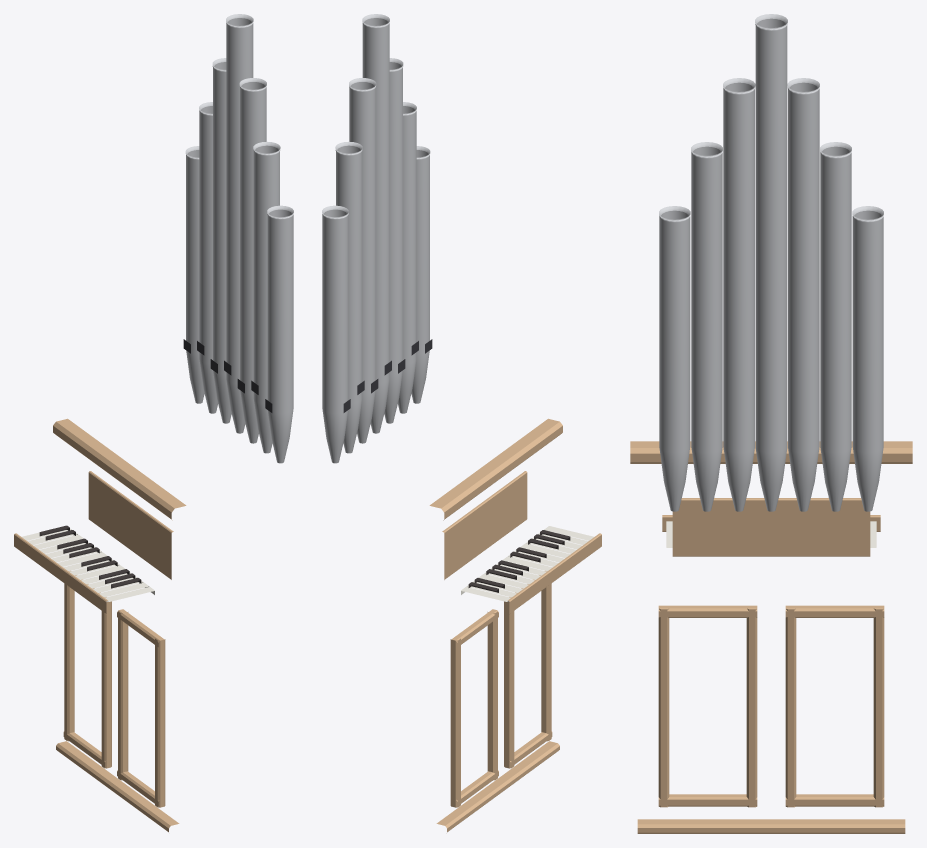
Rendered from lotprop__lot_church_nave_organ_front.glb.
3 renders of one model, left to right at view 1: azimuth 30°, elevation 25°; view 2: azimuth 150°, elevation 25°; view 3: azimuth 270°, elevation 25°, orthographic. The views are drawn at different scales.
Parts seen in each view (by area): view 1: lotprop__lot_church_nave_organ_front_pipes, lotprop__lot_church_nave_organ_front_oak, lotprop__lot_church_nave_organ_front_ivory, lotprop__lot_church_nave_organ_front_ebony, lotprop__lot_church_nave_organ_front_mouths; view 2: lotprop__lot_church_nave_organ_front_pipes, lotprop__lot_church_nave_organ_front_oak, lotprop__lot_church_nave_organ_front_ivory, lotprop__lot_church_nave_organ_front_ebony, lotprop__lot_church_nave_organ_front_mouths; view 3: lotprop__lot_church_nave_organ_front_pipes, lotprop__lot_church_nave_organ_front_oak.
Boxes of the visible parts, x1,y1,x2,y2 form: lotprop__lot_church_nave_organ_front_pipes: (185,14,293,463); lotprop__lot_church_nave_organ_front_oak: (14,418,186,832); lotprop__lot_church_nave_organ_front_ivory: (22,528,154,601); lotprop__lot_church_nave_organ_front_ebony: (39,525,141,588); lotprop__lot_church_nave_organ_front_mouths: (183,339,272,412); lotprop__lot_church_nave_organ_front_pipes: (322,14,430,463); lotprop__lot_church_nave_organ_front_oak: (429,418,601,832); lotprop__lot_church_nave_organ_front_ivory: (461,526,593,601); lotprop__lot_church_nave_organ_front_ebony: (468,530,570,592); lotprop__lot_church_nave_organ_front_mouths: (343,339,432,412); lotprop__lot_church_nave_organ_front_pipes: (659,14,883,511); lotprop__lot_church_nave_organ_front_oak: (630,441,912,833).
Size of the model in its own units: 0.7453 by 2.75 by 0.8.
